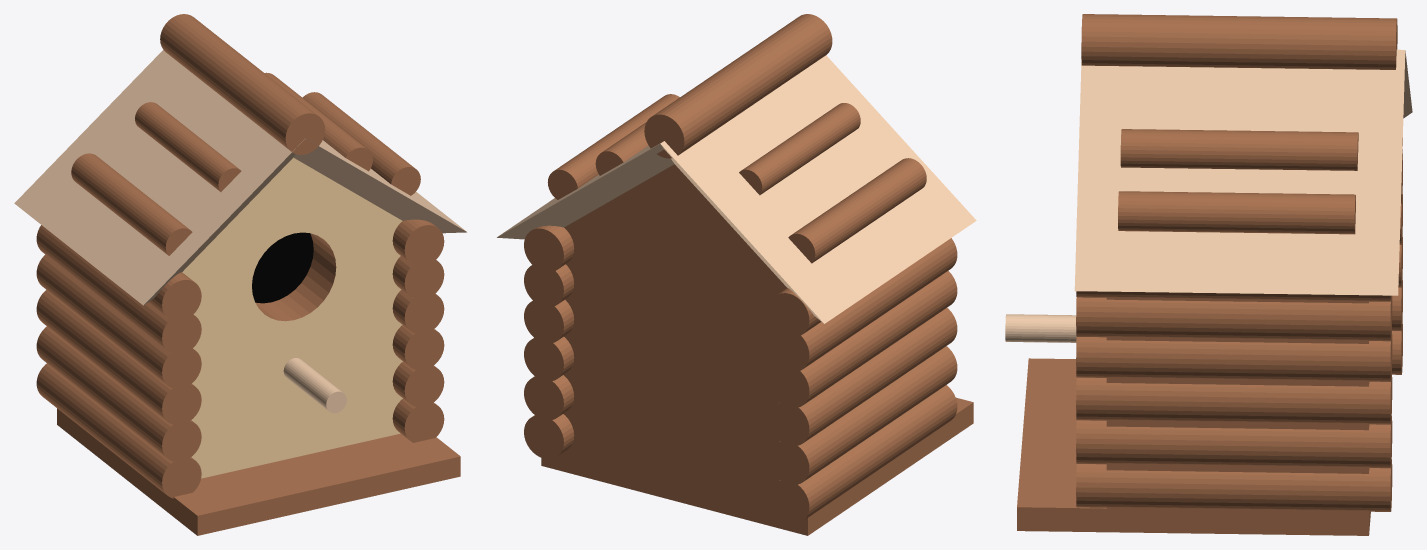
File: Birdhouse.glb
3 views of the same model, side by side, from view 1: azimuth 30°, elevation 25°; view 2: azimuth 150°, elevation 25°; view 3: azimuth 270°, elevation 25° (orthographic). The views are drawn at different scales.
Visible parts, largest first — view 1: Birdhouse; view 2: Birdhouse; view 3: Birdhouse.
Boxes of the visible parts, x1,y1,x2,y2 form: Birdhouse: (14, 14, 466, 535); Birdhouse: (497, 14, 976, 535); Birdhouse: (1005, 14, 1412, 535).
Bounding box in the file's own units: 0.6364 × 0.6965 × 0.5829.
2 materials, 2 textured.
